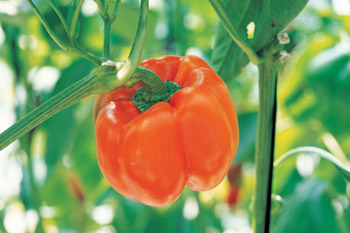capsicum: (94, 53, 241, 209)
